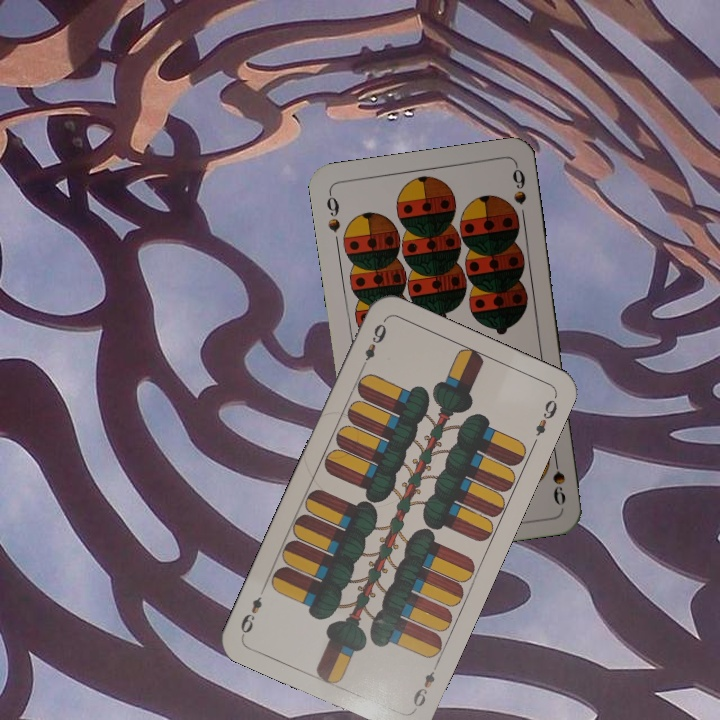E9: (358, 316, 389, 372), (409, 658, 440, 710)
S9: (548, 449, 569, 507), (322, 188, 343, 235)
